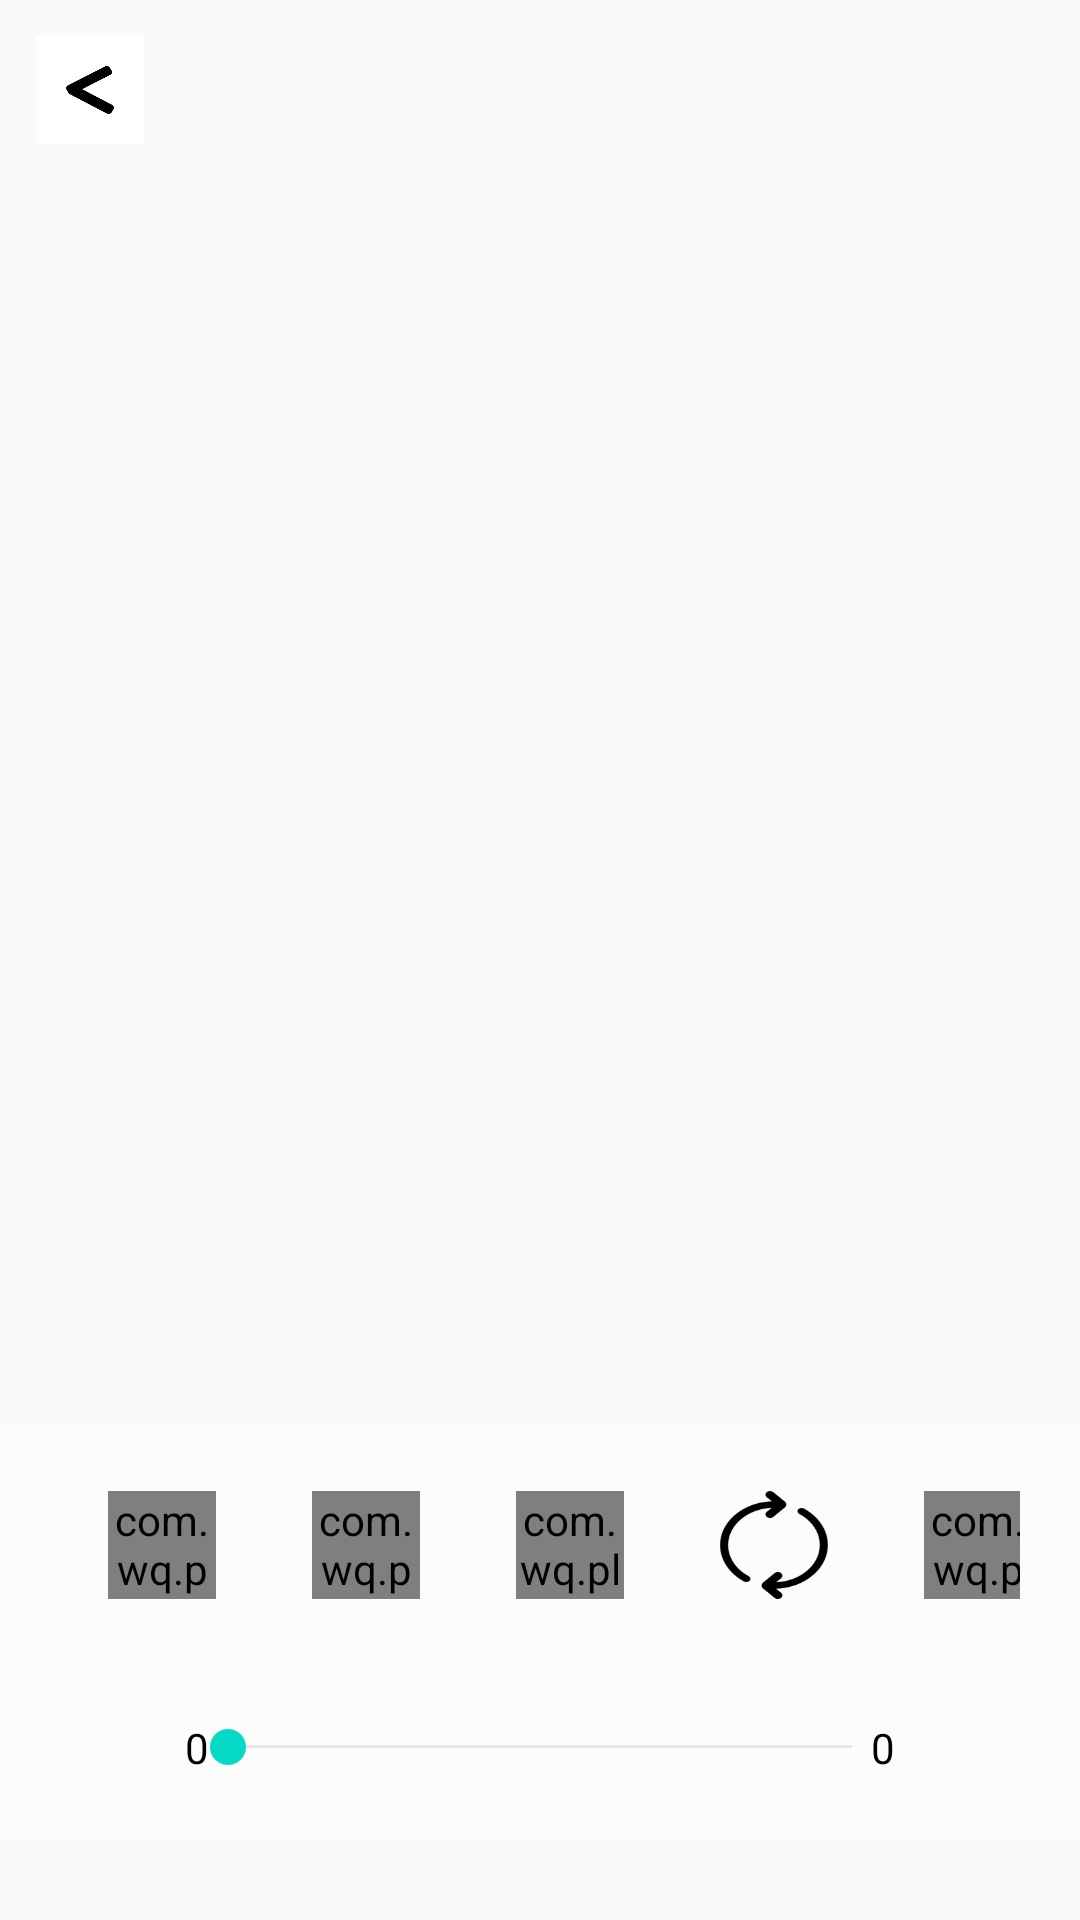

Screen size 1080 x 1920. Icon name, then its center in pixels as (x,y):
angle reset: (774,1545)
back: (90,90)
